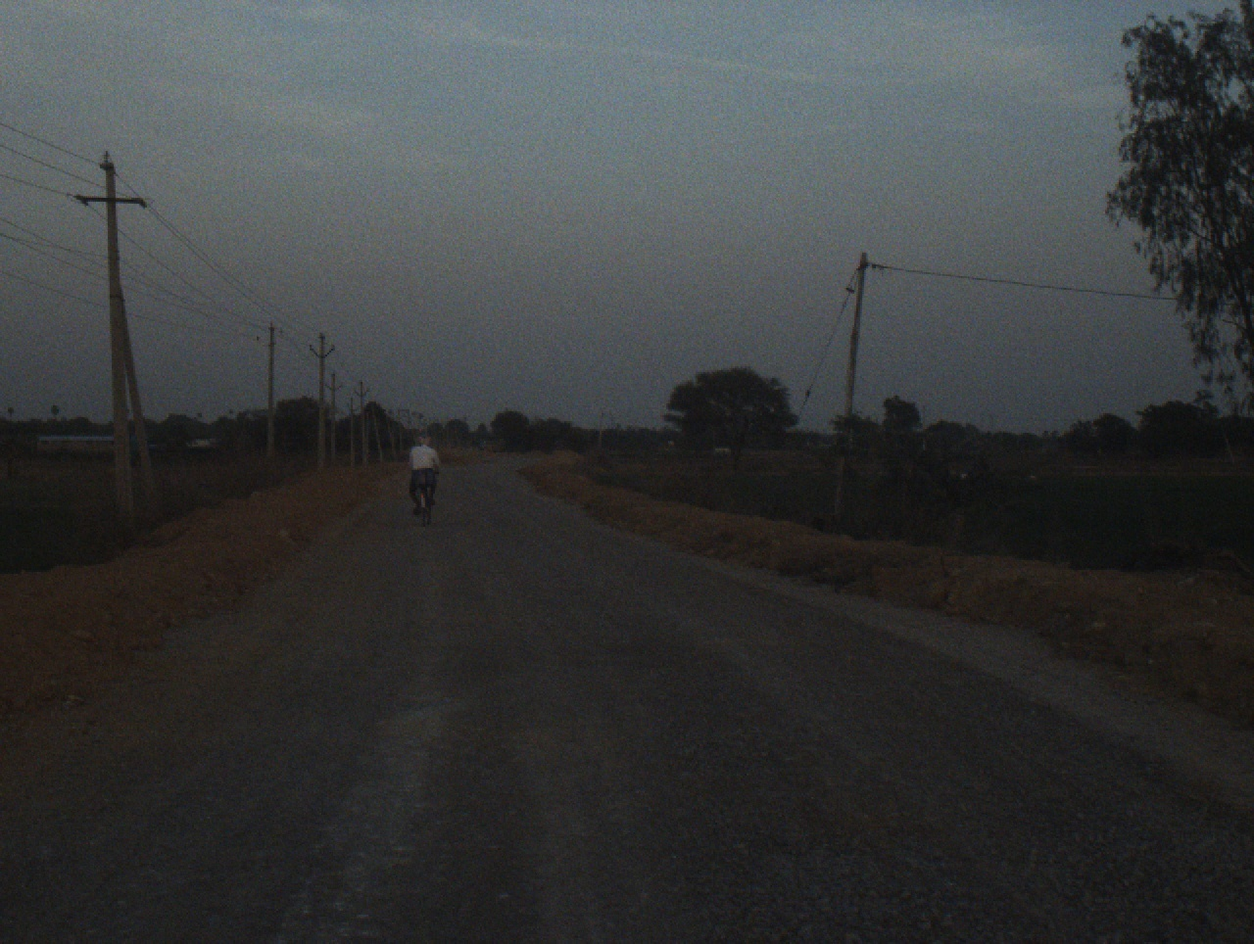bicycle: (415, 461, 435, 518)
rider: (401, 431, 442, 517)
